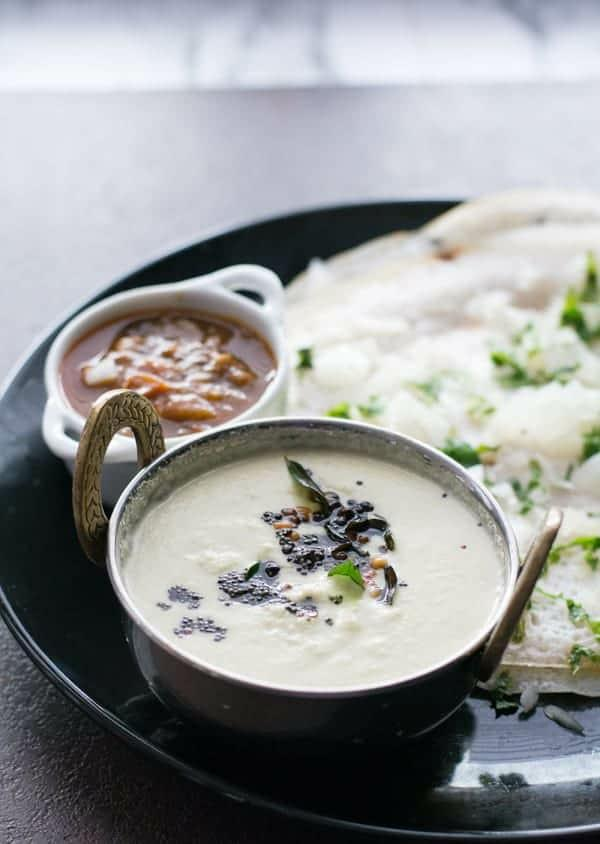CoconutChutney: (127, 449, 502, 690)
